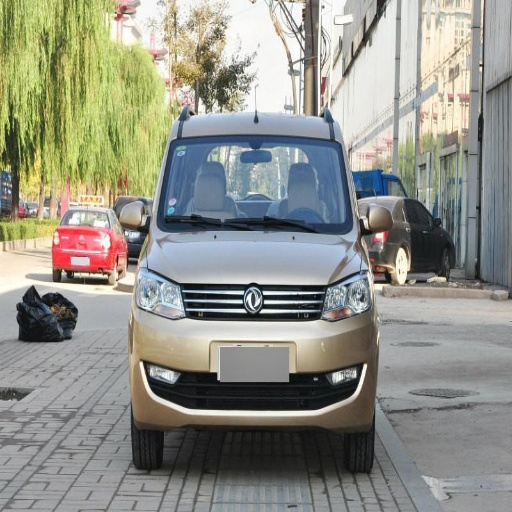front_bumper: (133, 285, 372, 431)
front_right_light: (137, 268, 190, 318)
hood: (147, 230, 359, 286)
